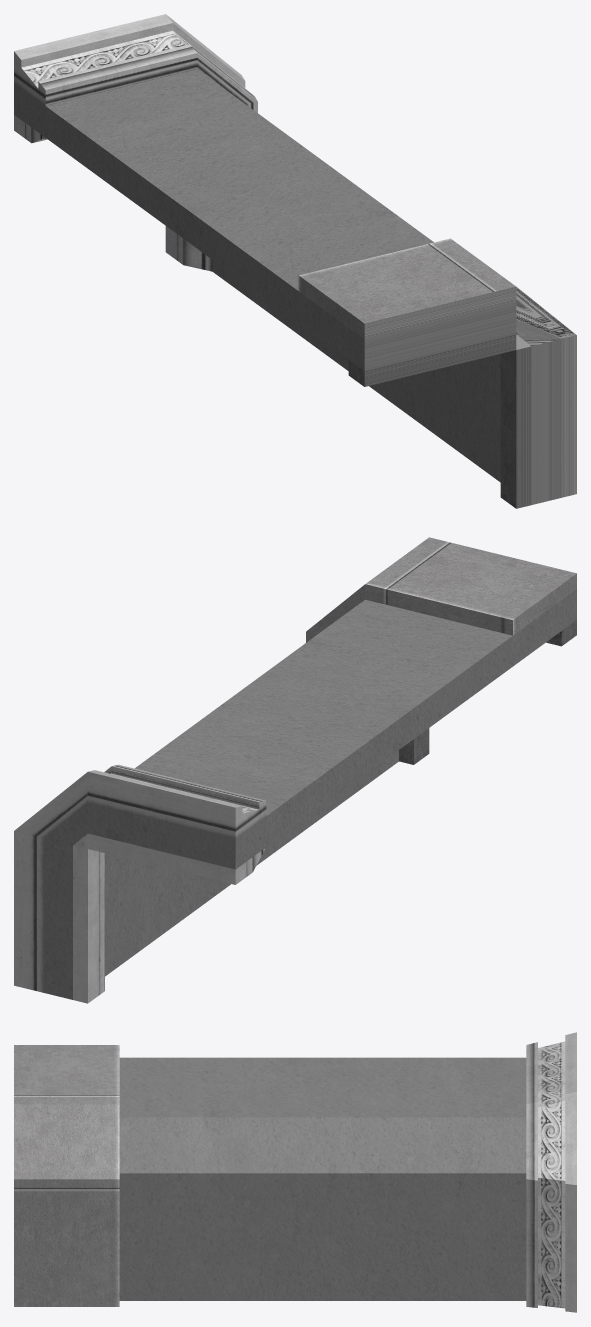
File: A_wall_ 2m_corner.fbx
3 views of the same model, one above another, from view 1: azimuth 30°, elevation 25°; view 2: azimuth 150°, elevation 25°; view 3: azimuth 270°, elevation 25° (orthographic). The views are drawn at different scales.
Visible parts, largest first — view 1: A_wall__2m_corner; view 2: A_wall__2m_corner; view 3: A_wall__2m_corner.
Boxes of the visible parts, x1=… form: A_wall__2m_corner: x1=14, y1=14, x2=576, y2=508; A_wall__2m_corner: x1=14, y1=537, x2=576, y2=1003; A_wall__2m_corner: x1=14, y1=1032, x2=576, y2=1312.
Bounding box in the file's own units: 1.5 × 1.5 × 4.
